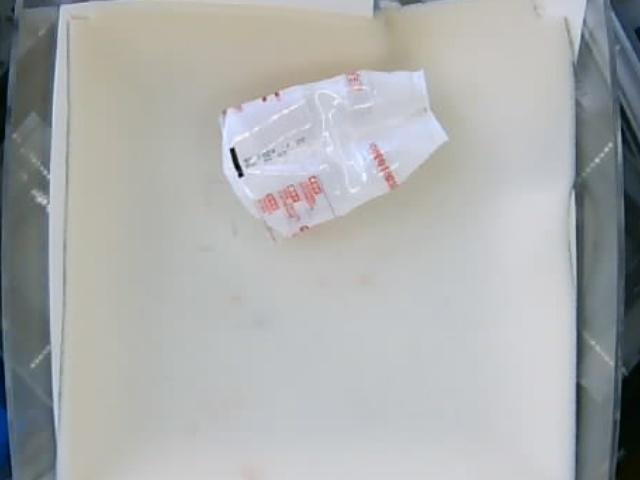Bottle: (218, 67, 448, 246)
